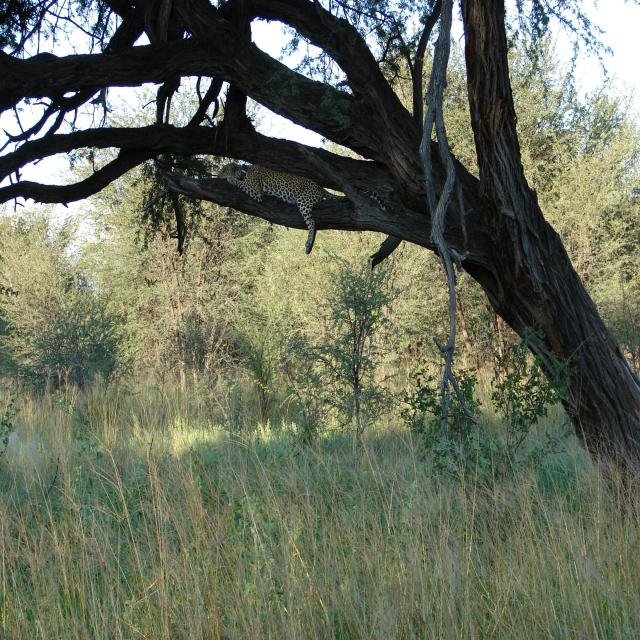Leopard: (216, 157, 391, 267)
